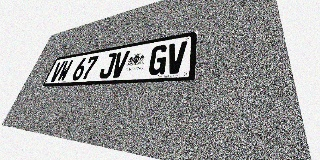6: (71, 57, 89, 81)
7: (80, 56, 99, 80)
G: (147, 44, 169, 76)
J: (98, 52, 117, 79)
V: (165, 41, 187, 74), (110, 50, 130, 78), (49, 61, 66, 82)
W: (56, 60, 73, 82)
